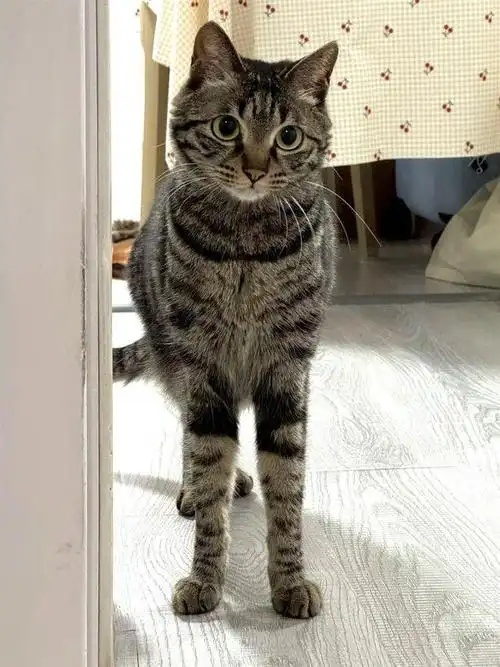狸花猫: (113, 22, 337, 379), (113, 166, 336, 513)
